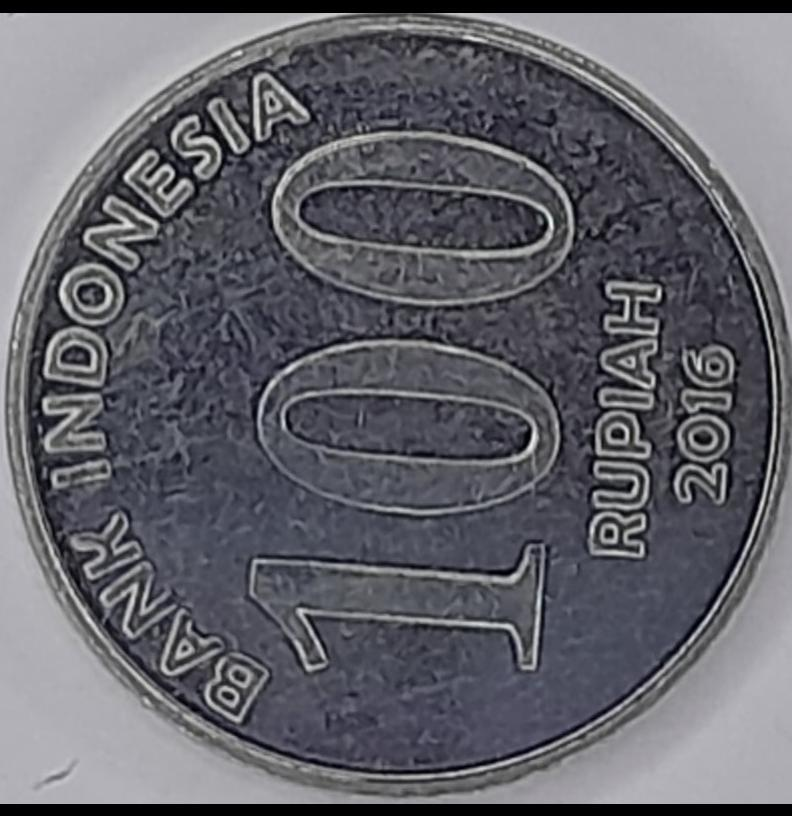coin_100_e2016: (0, 10, 791, 798)
